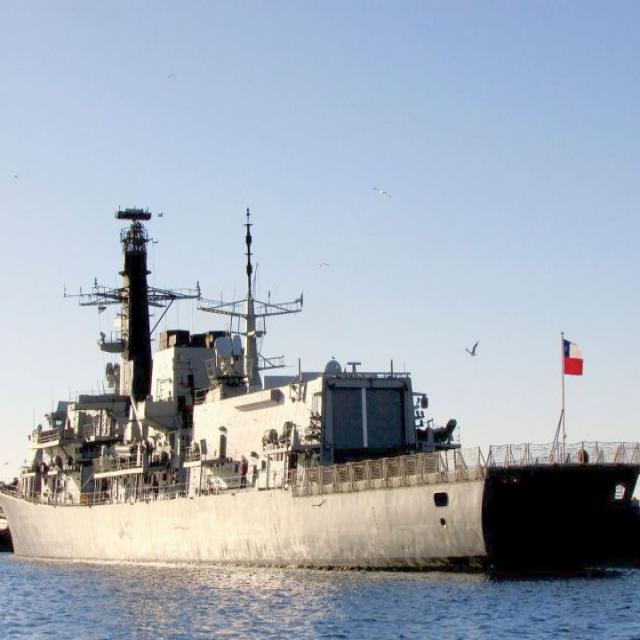Fragata: (1, 208, 640, 586)
